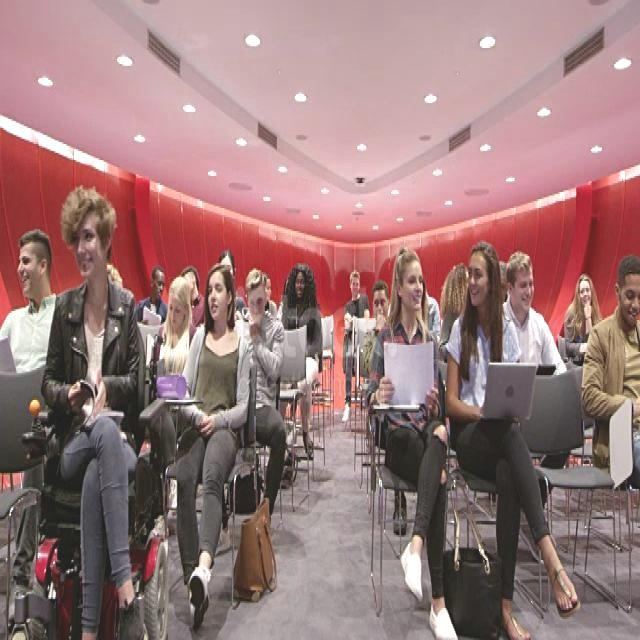Looking away: (70, 195, 108, 282), (466, 244, 494, 312), (17, 240, 50, 296), (399, 252, 426, 316), (207, 268, 230, 330), (620, 261, 640, 330), (247, 276, 269, 329), (168, 286, 188, 332), (372, 280, 388, 326), (153, 265, 166, 304)
Looking forward: (512, 262, 534, 315), (578, 276, 594, 310), (349, 270, 362, 298), (296, 267, 306, 299)
